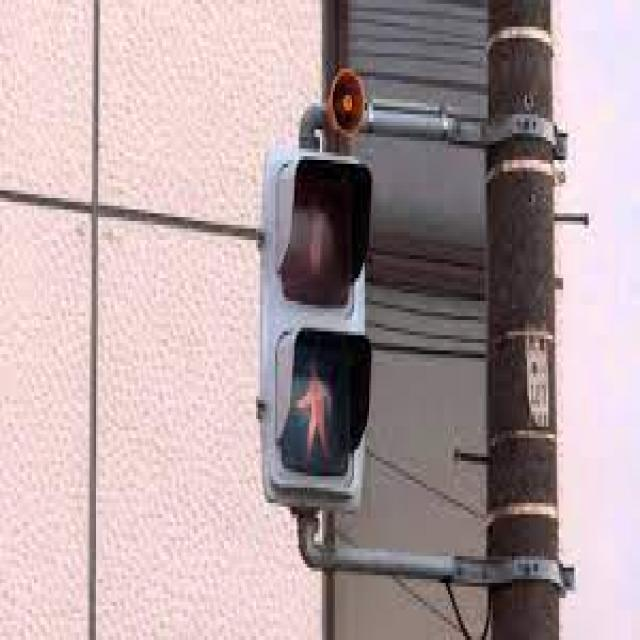trafficlight: (256, 145, 369, 514)
